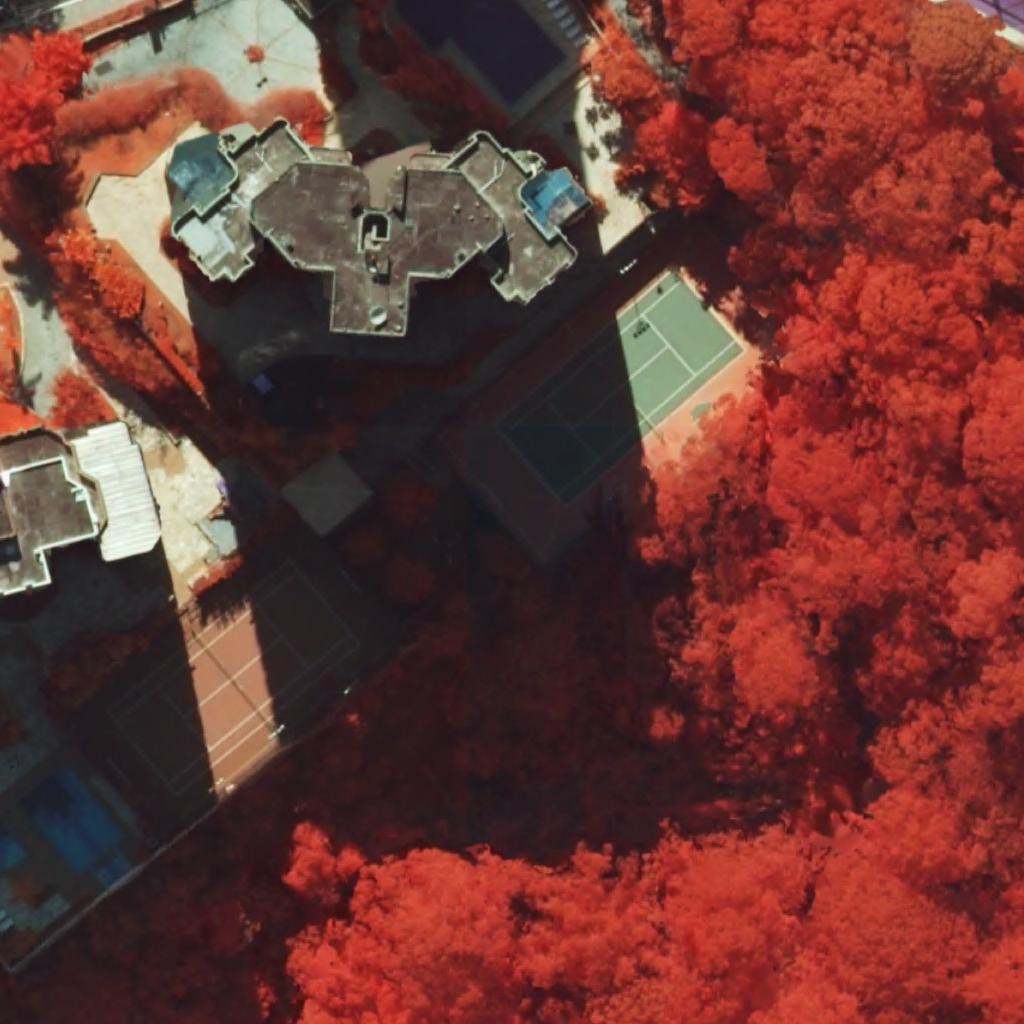pool: (20, 768, 124, 874), (520, 171, 572, 222)
